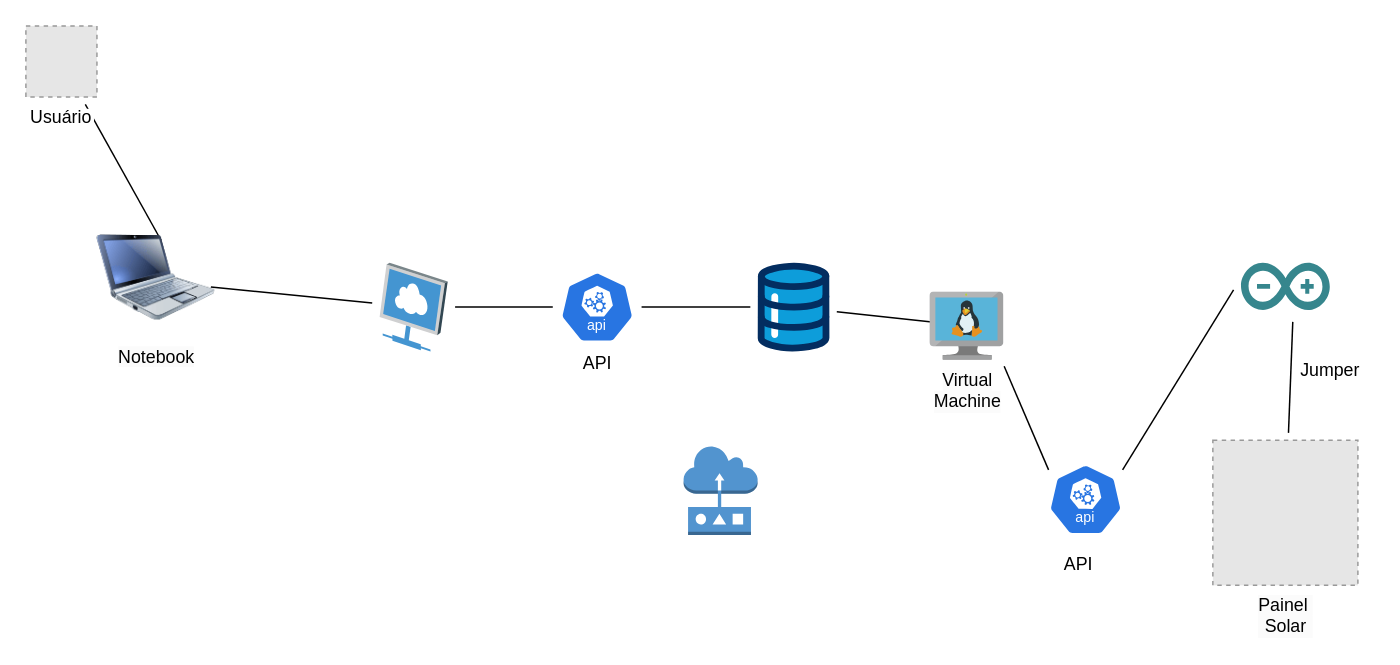
The diagram is 1400 pixels wide and 665 high, and some of its shapes have lost their labels. Grey dashed boxes stand in for pictures. The centre of each missing label's shape, as x and y in pixels:
Arduino: the point at 1284,285
Banco de Dados: the point at 793,306
